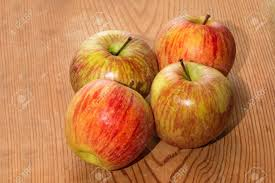apple: (64, 83, 156, 162), (156, 7, 233, 84)
damaged_apple: (151, 63, 235, 149), (68, 35, 157, 103)
